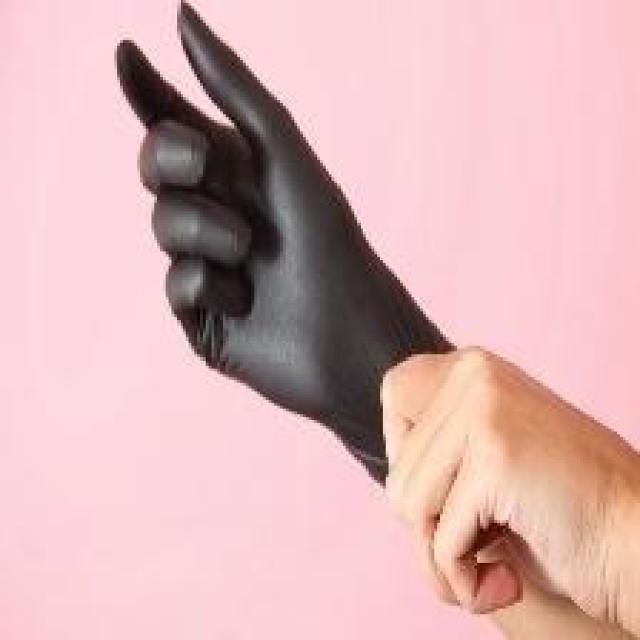Glove: (90, 4, 497, 476)
